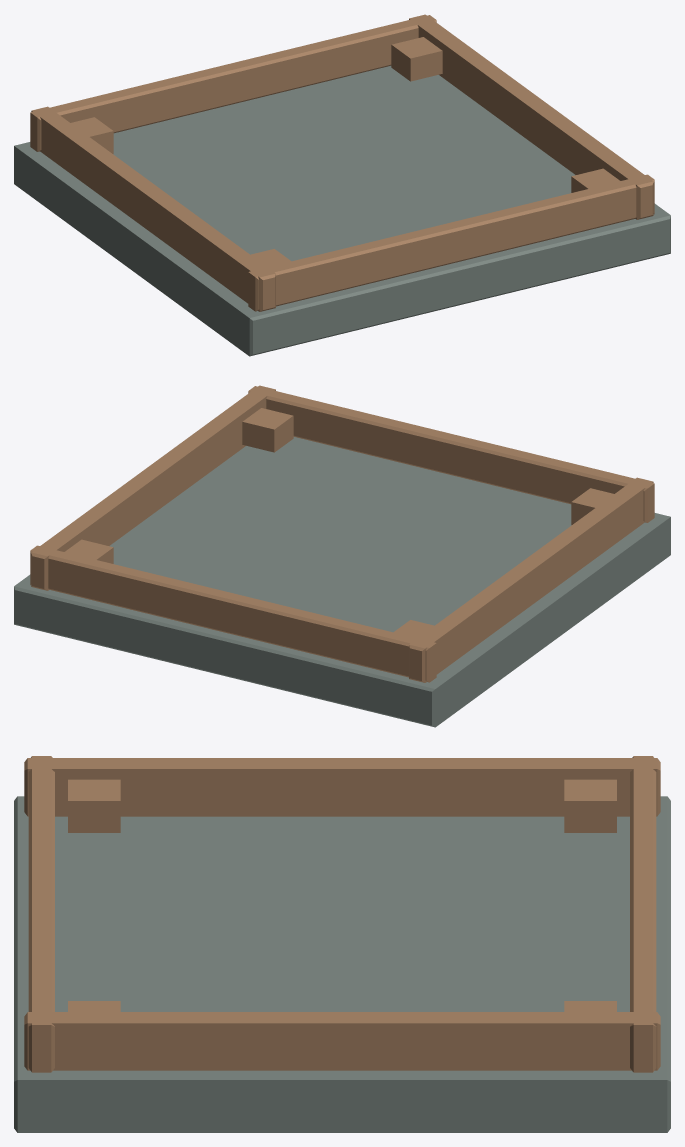
The model's file is LiftPlatform.fbx.
3 renders of one model, top to bottom at view 1: azimuth 30°, elevation 25°; view 2: azimuth 150°, elevation 25°; view 3: azimuth 270°, elevation 25°, orthographic. The views are drawn at different scales.
Parts seen in each view (by area): view 1: Carriage__Steel, CarriageLip__Rust; view 2: Carriage__Steel, CarriageLip__Rust; view 3: Carriage__Steel, CarriageLip__Rust.
Boxes of the visible parts, x1,y1,x2,y2 form: Carriage__Steel: (14,66,670,356); CarriageLip__Rust: (30,14,654,311); Carriage__Steel: (14,437,670,727); CarriageLip__Rust: (30,385,654,682); Carriage__Steel: (14,796,670,1132); CarriageLip__Rust: (24,756,660,1072).
Bounding box in the file's own units: 2.3 × 0.38 × 2.25.
